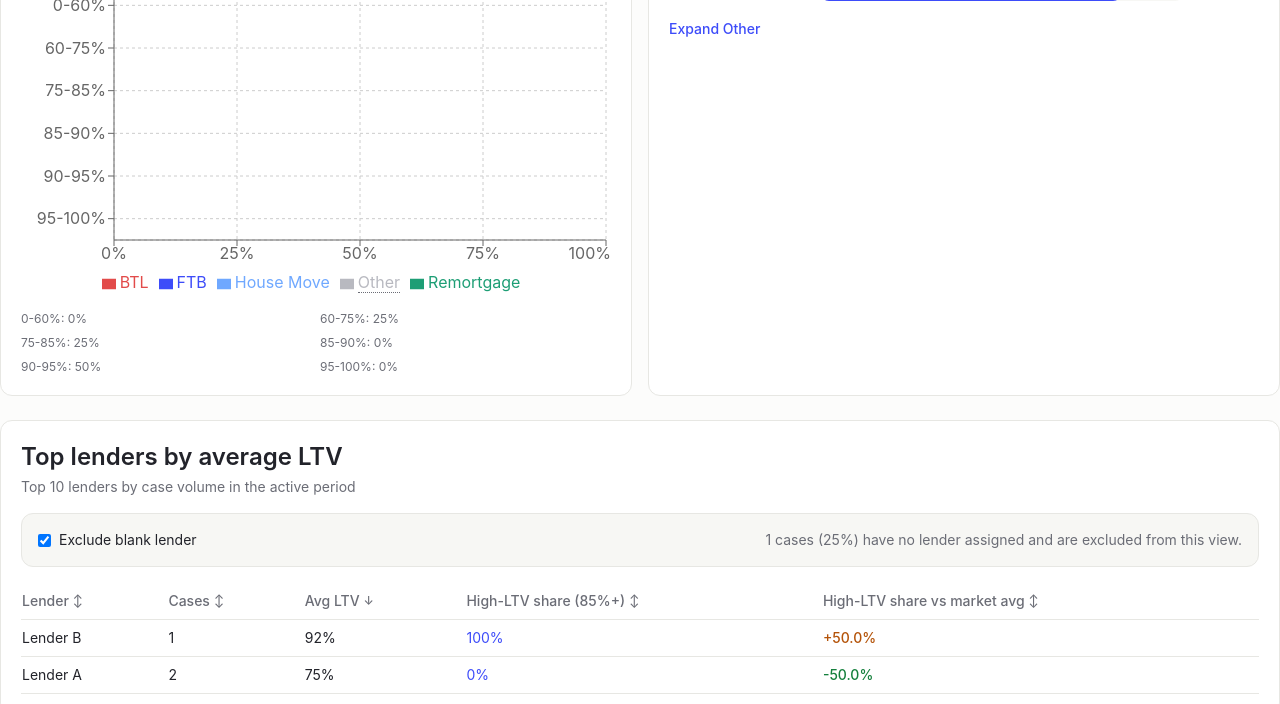
it: InternalRiskLtvTab › excludes blank lender rows by default and includes them when toggled
(page scrolled)
Expected: the column heading "High-LTV share vs market avg ↕" is shown, [822,583,1259,620]
Expected: the cell "Lender B" is shown, [21,620,167,656]
Click the checkbox labelled "Exclude blank lender".
click(44, 540)  # box [38,534,51,546]
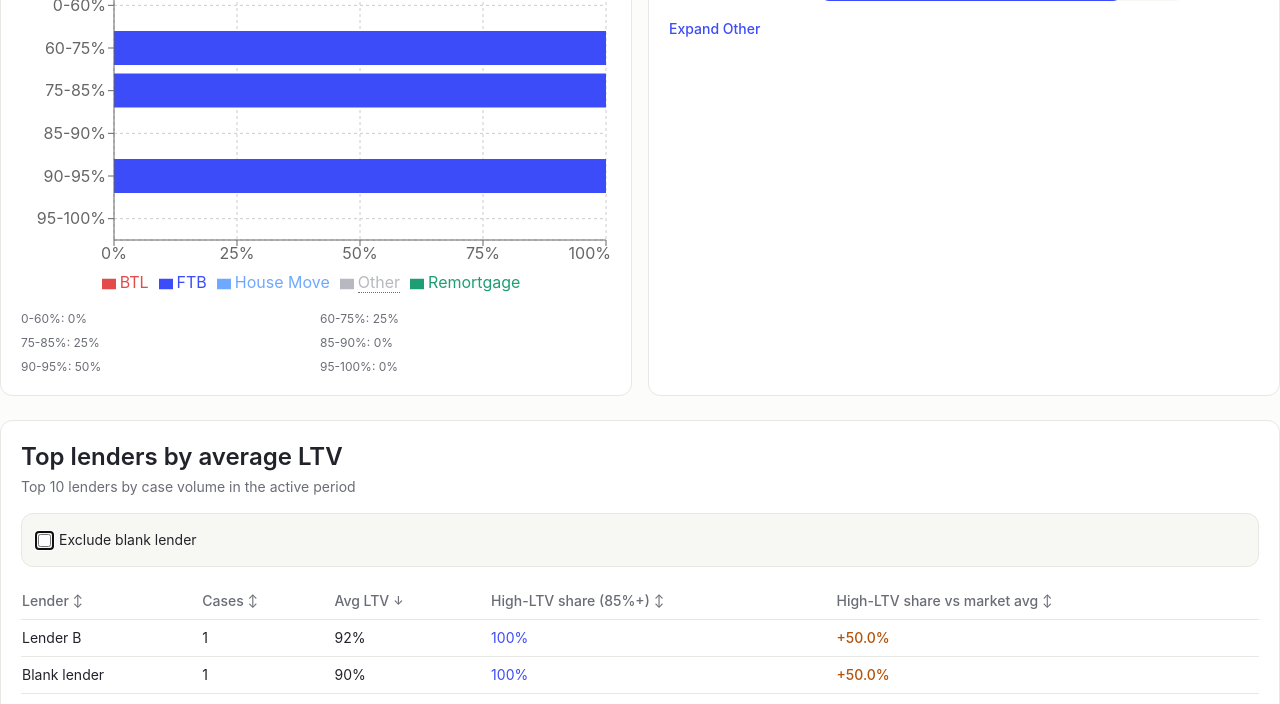
Now the cell "Blank lender" is shown, box [21,656,201,694]
